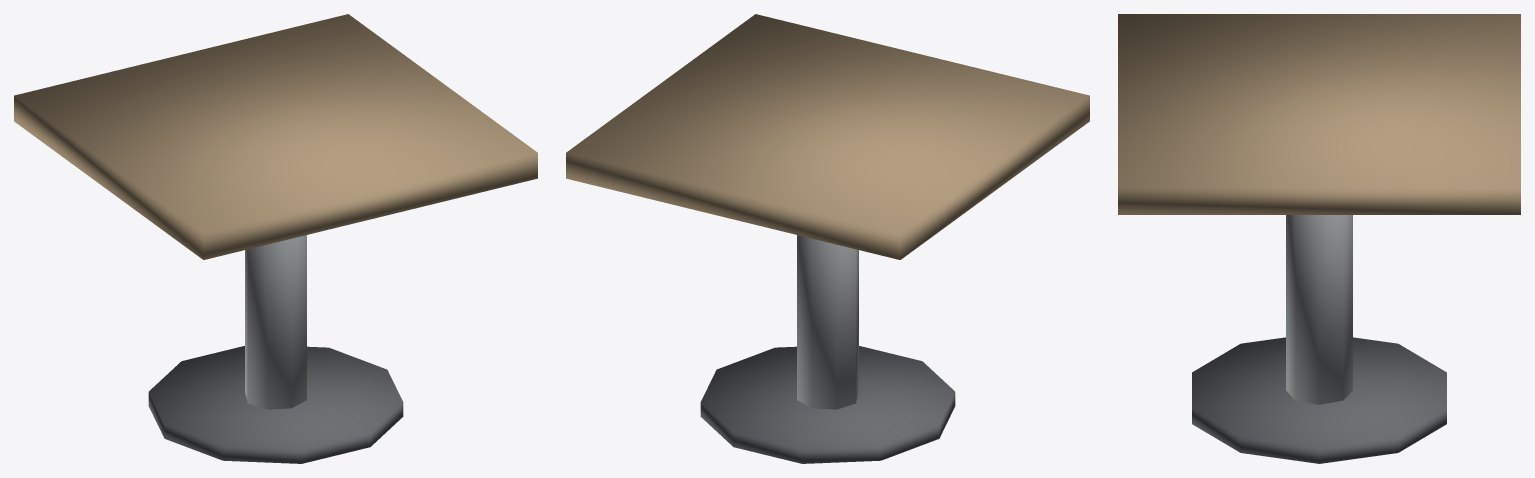
The model's file is diner_two_top__squat.glb.
The picture shows the model from 3 angles, left to right: view 1: azimuth 30°, elevation 25°; view 2: azimuth 150°, elevation 25°; view 3: azimuth 270°, elevation 25°; orthographic projection. The views are drawn at different scales.
Visible parts, largest first — view 1: world; view 2: world; view 3: world.
Part boxes in pixels (x1,y1,x2,y2): world: (14, 14, 537, 463); world: (566, 14, 1089, 463); world: (1118, 14, 1520, 463).
Bounding box in the file's own units: 0.792 × 0.651 × 0.7776.
